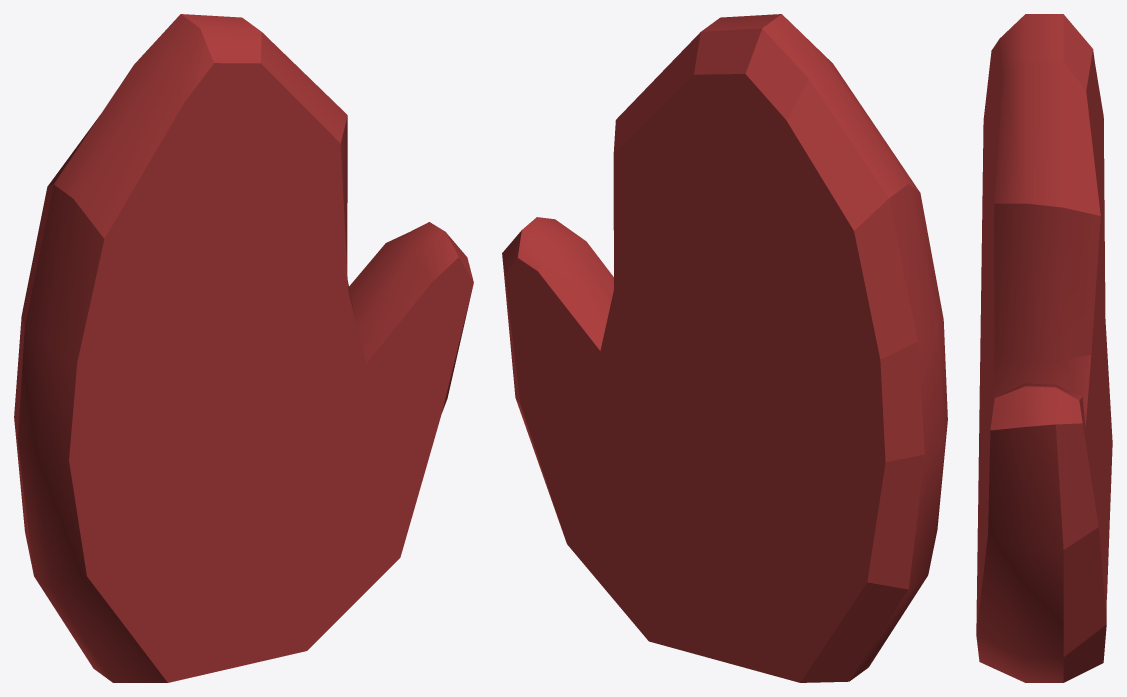
The model's file is right_mitten.fbx.
3 renders of one model, left to right at view 1: azimuth 30°, elevation 25°; view 2: azimuth 150°, elevation 25°; view 3: azimuth 270°, elevation 25°, orthographic. The views are drawn at different scales.
Parts seen in each view (by area): view 1: polySurface1; view 2: polySurface1; view 3: polySurface1.
Boxes of the visible parts, box(x1,y1,x2,y2) form: polySurface1: box(14, 14, 473, 682); polySurface1: box(502, 14, 947, 682); polySurface1: box(976, 14, 1112, 682).
Size of the model in its own units: 4.25 by 5.98 by 1.2.
